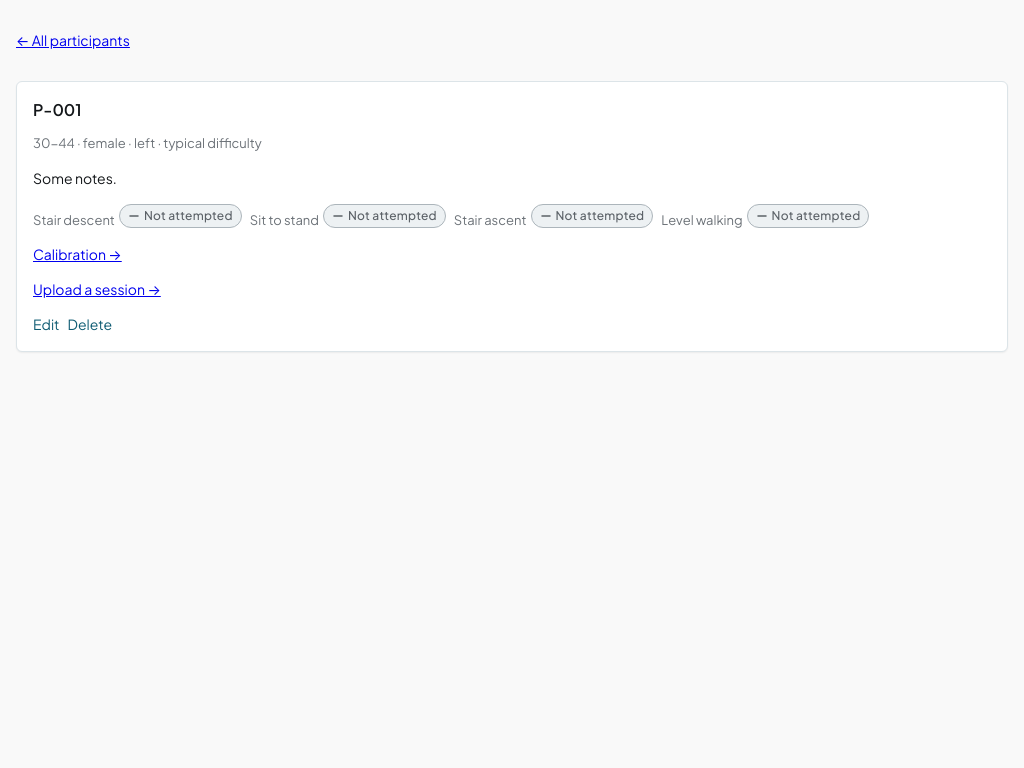
ParticipantDetailPage › edits a participant and shows the saved result
Check: the heading "P-001" is shown, box [33,99,82,120]
Click the button "Edit". click: point(46, 324)
box: [33,314,60,335]
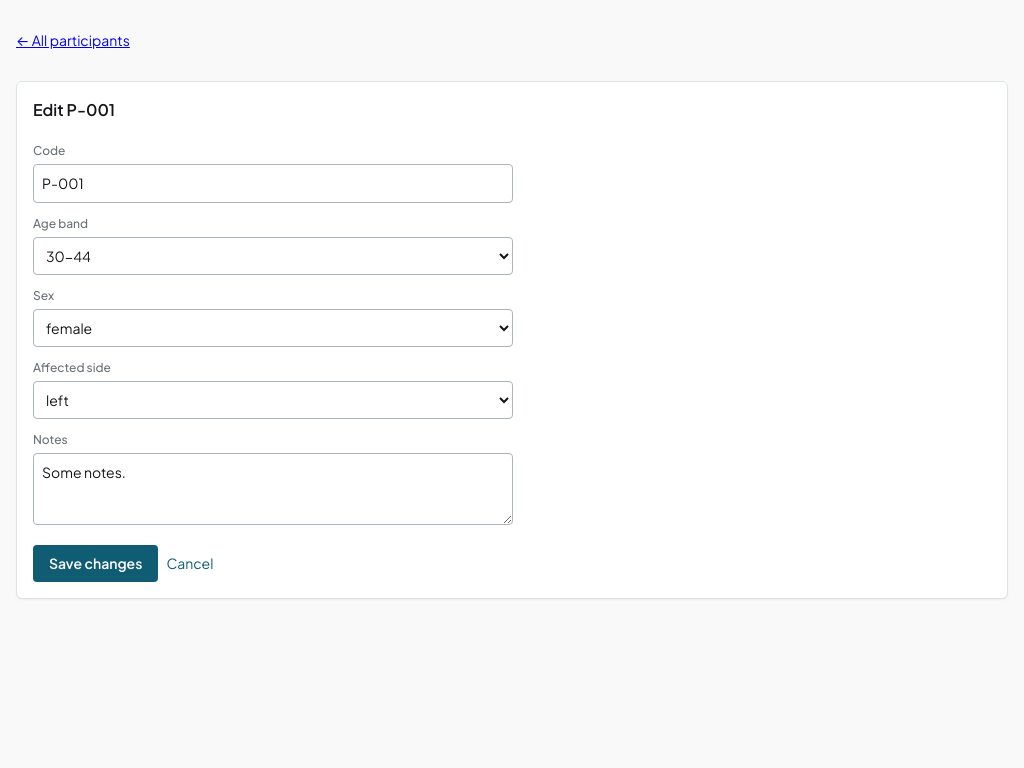
Replace the text in the field labelled "Code" with "P-001-B". click: point(273, 184)
box: [33,164,513,203]
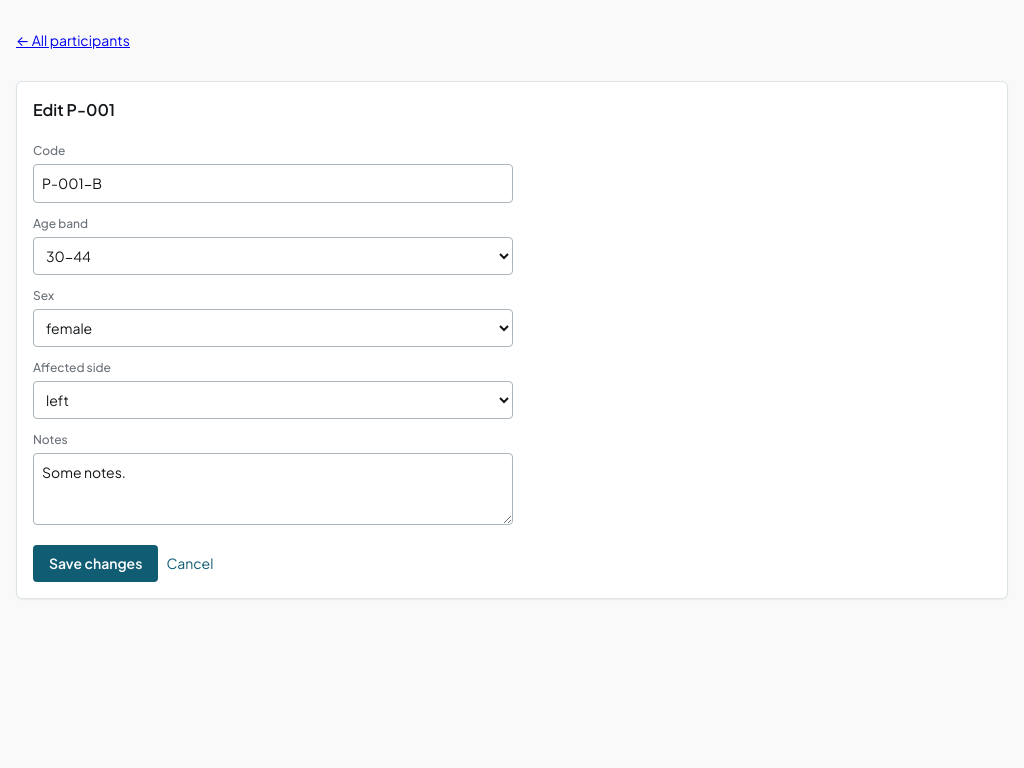
Click the button "Save changes". click: point(96, 564)
box: [33,545,158,582]
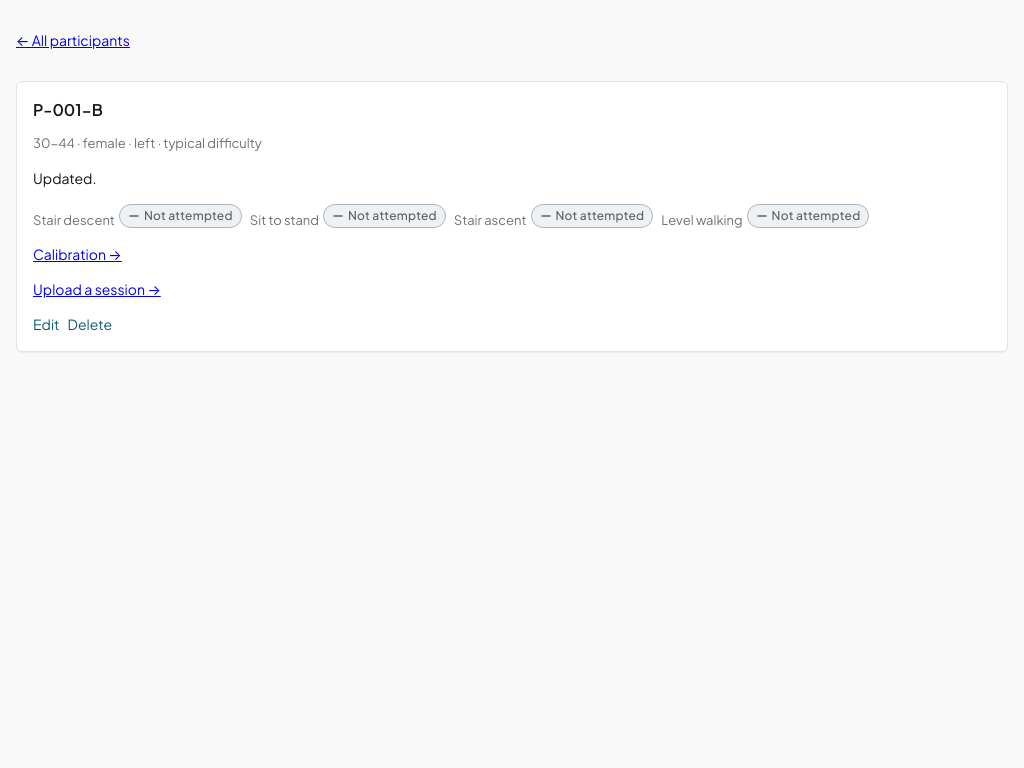
Check: the heading "P-001-B" is shown, box [33,99,103,120]
Check: the text "Updated." is shown, box [33,168,96,186]
